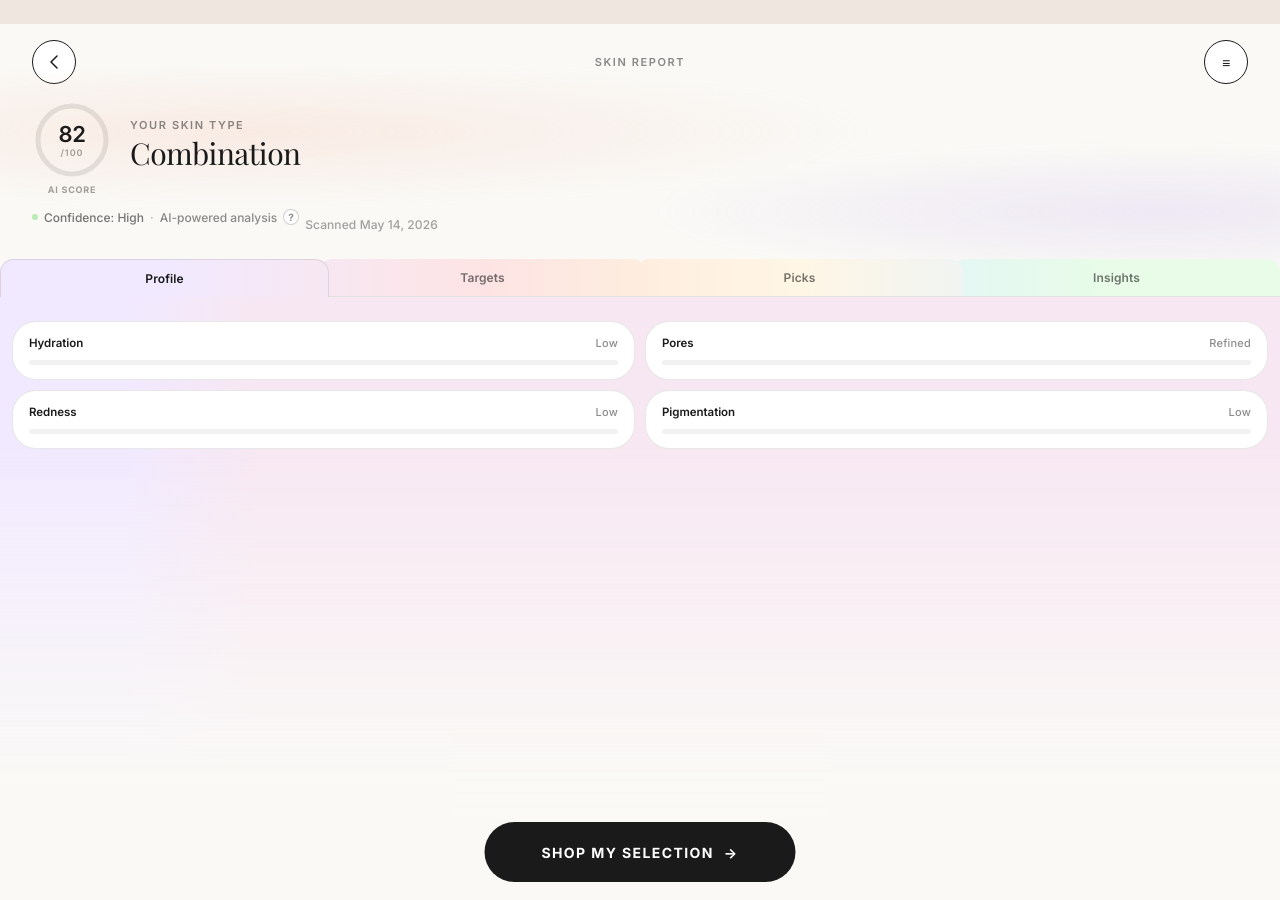
Scenario: <ResultsPage /> › reveals the high-confidence explainer when the help button is clicked
Expected: the text "AI-powered analysis" is shown, [160,210,277,224]
Click the button named "what does this mean" at coordinates (291, 217), box [283,209,299,225]
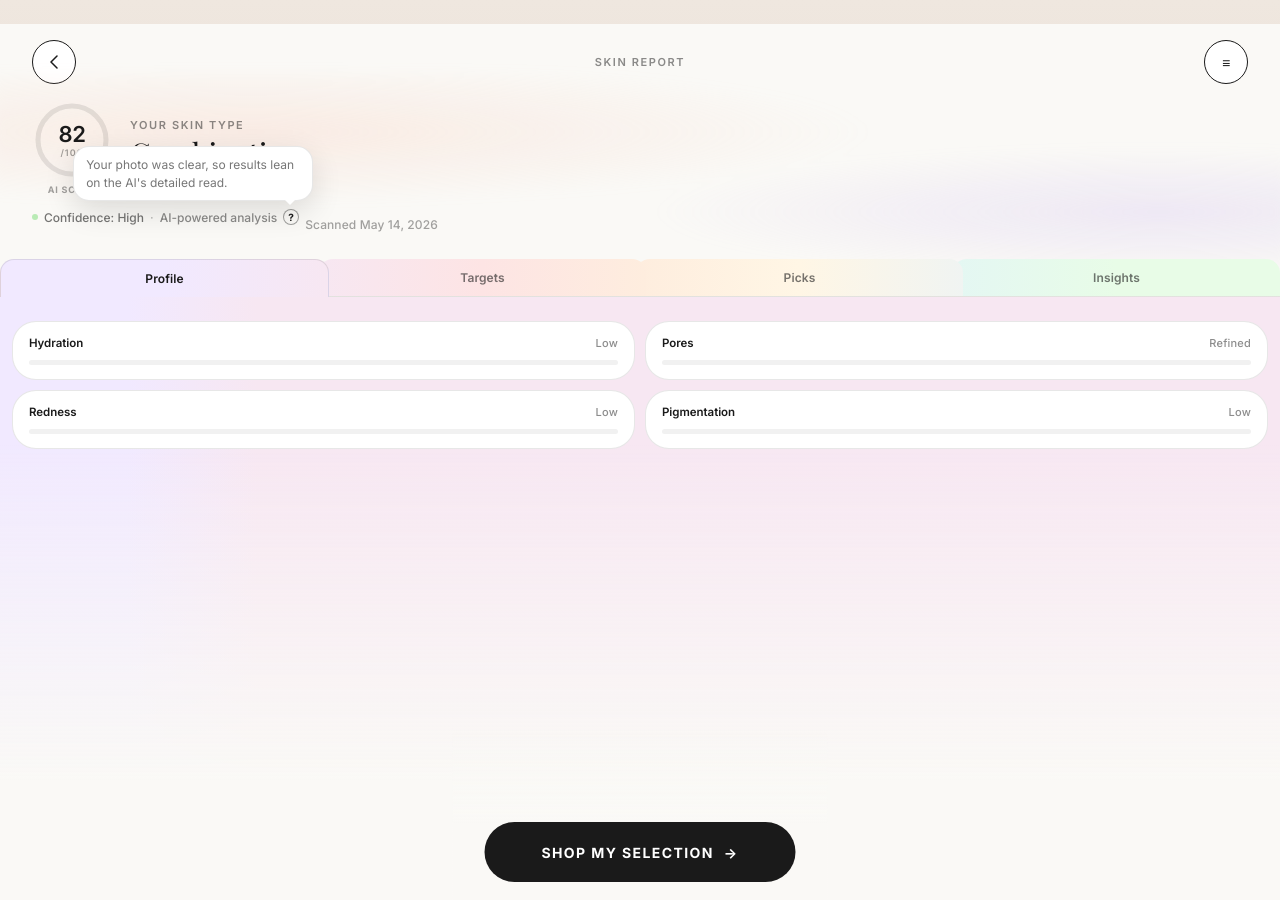
Now the text "lean on the AI's detailed read" is shown, box [86,157,294,190]
// Clicking again dismisses it.
Click the button named "what does this mean" at coordinates (291, 217), box [283,209,299,225]
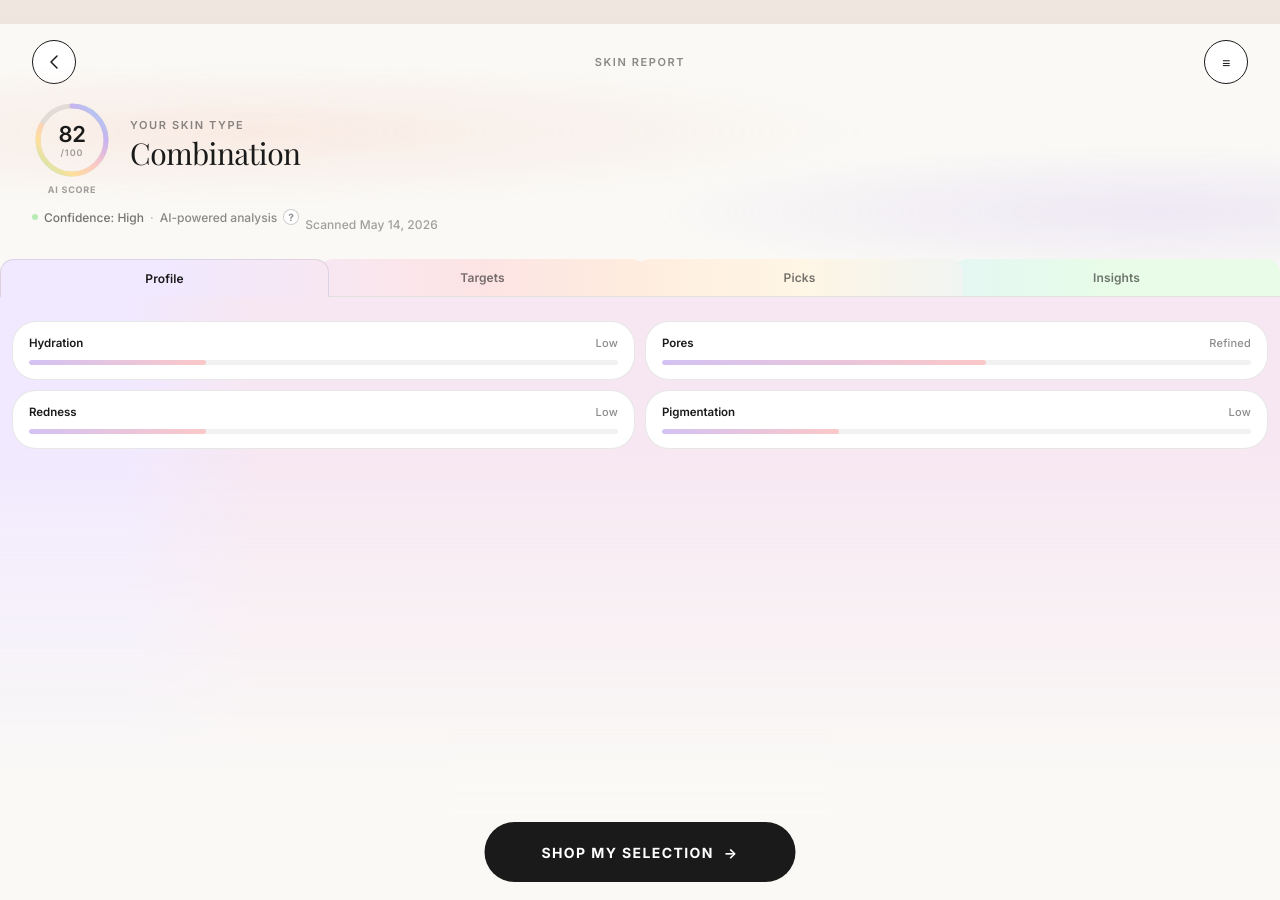
Now the dialog is gone
